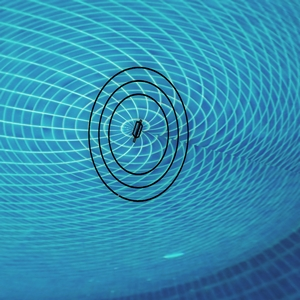circle: (91, 57, 200, 204)
submarine: (129, 122, 143, 142), (149, 112, 157, 122), (145, 122, 150, 132)
